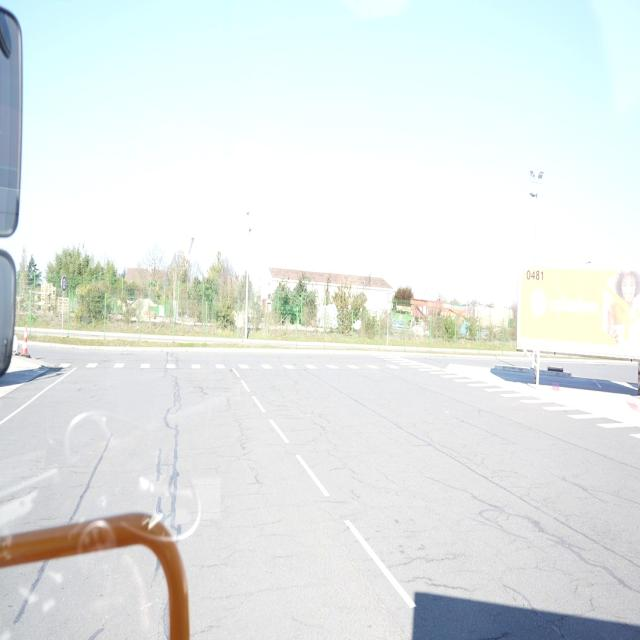Code: (522, 266, 545, 284)
